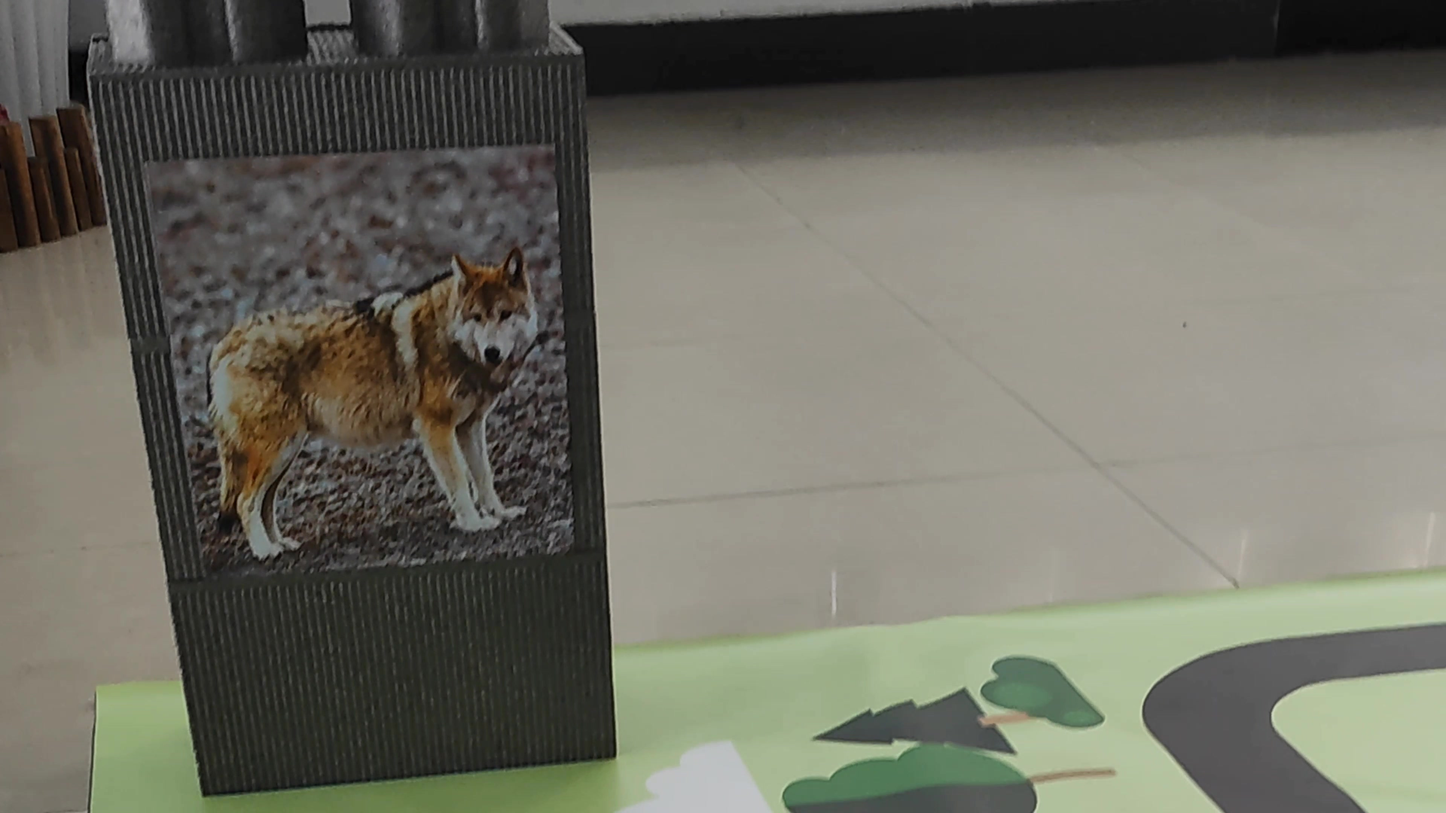wolf: (173, 168, 548, 567)
